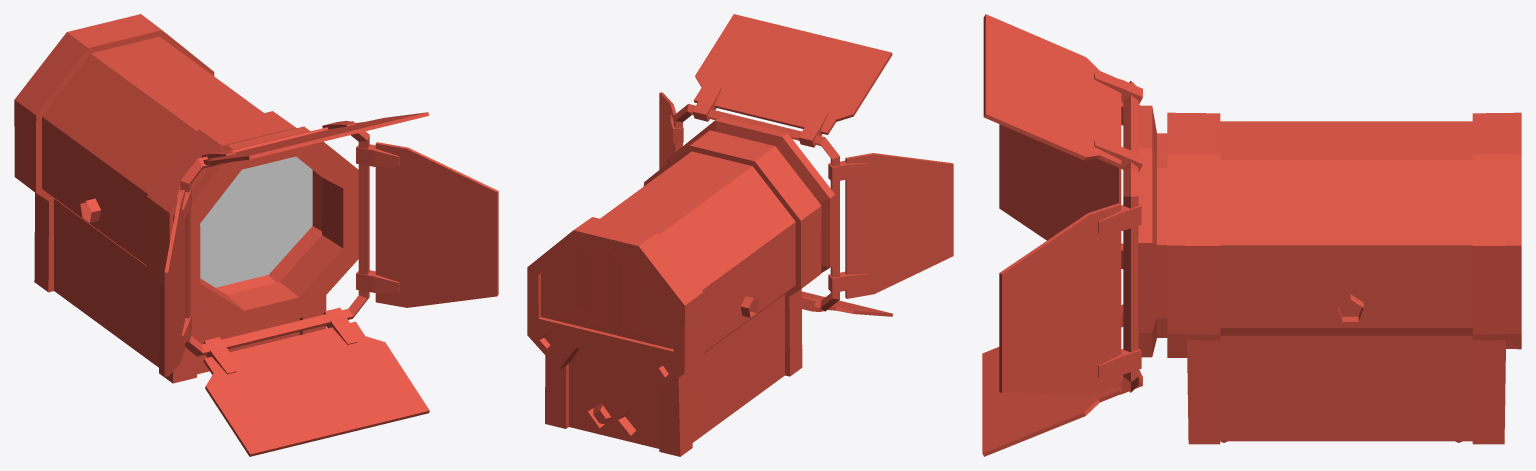
File: SM_Ligh_Reflector_Hanging_Light.fbx
3 views of the same model, side by side, from view 1: azimuth 30°, elevation 25°; view 2: azimuth 150°, elevation 25°; view 3: azimuth 270°, elevation 25° (orthographic). The views are drawn at different scales.
Parts seen in each view (by area): view 1: SM_Ligh_Reflector_Hanging_Light; view 2: SM_Ligh_Reflector_Hanging_Light; view 3: SM_Ligh_Reflector_Hanging_Light.
Part boxes in pixels (<box>): SM_Ligh_Reflector_Hanging_Light: <box>14,14,498,456</box>; SM_Ligh_Reflector_Hanging_Light: <box>527,14,953,456</box>; SM_Ligh_Reflector_Hanging_Light: <box>982,14,1521,456</box>.
Size of the model in its own units: 42.03 by 34.32 by 29.72.
